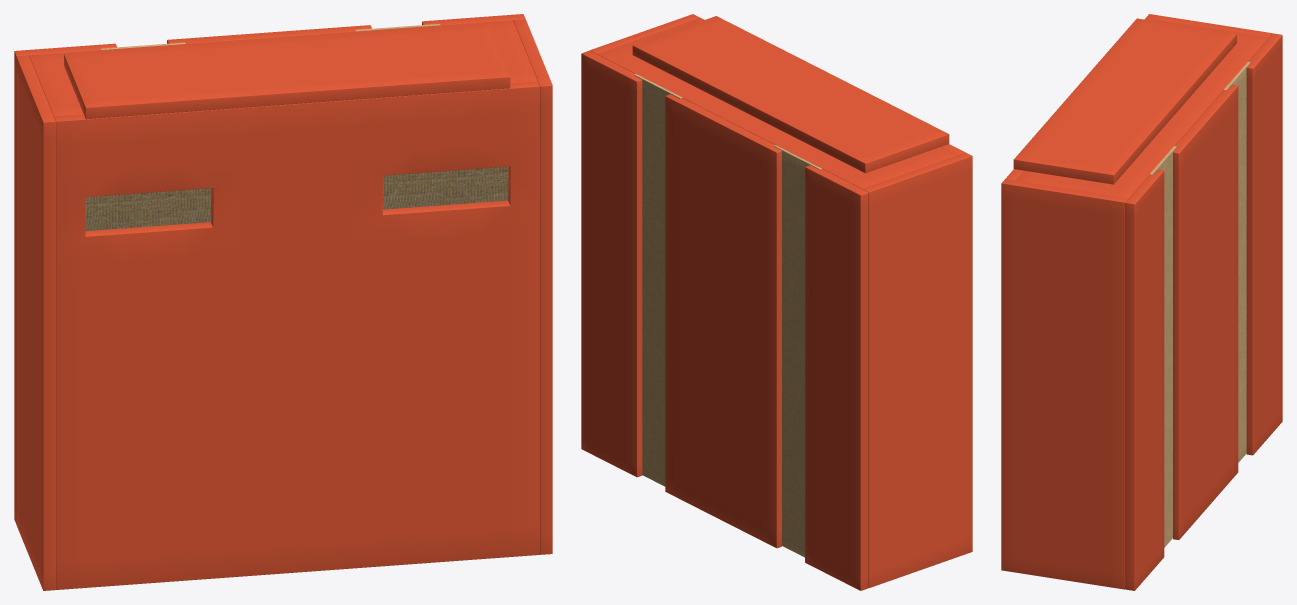
Rendered from panel_01.gltf.
3 views of the same model, side by side, from view 1: azimuth 30°, elevation 25°; view 2: azimuth 150°, elevation 25°; view 3: azimuth 270°, elevation 25° (orthographic). The views are drawn at different scales.
Visible parts, largest first — view 1: object_3.013, object_12.007, object_8.009, object_10.010, object_7.009, object_9.010, object_4.011, object_5.008; view 2: object_5.008, object_8.009, object_4.011, object_6.009, object_12.007, object_1.015, object_2.006, object_9.010, object_7.009; view 3: object_7.009, object_5.008, object_12.007, object_6.009, object_4.011, object_9.010, object_1.015, object_2.006, object_8.009.
Part boxes in pixels (x1,y1,x2,y2): object_3.013: [54, 81, 539, 589]; object_12.007: [64, 23, 510, 119]; object_8.009: [16, 55, 55, 590]; object_10.010: [85, 166, 508, 230]; object_7.009: [513, 19, 552, 554]; object_9.010: [29, 20, 537, 116]; object_4.011: [14, 43, 116, 523]; object_5.008: [167, 25, 371, 43]; object_5.008: [665, 94, 781, 548]; object_8.009: [862, 152, 972, 587]; object_4.011: [805, 165, 868, 590]; object_6.009: [581, 50, 642, 477]; object_12.007: [632, 16, 949, 173]; object_1.015: [634, 74, 682, 486]; object_2.006: [773, 145, 821, 557]; object_9.010: [597, 20, 956, 188]; object_7.009: [590, 14, 699, 53]; object_7.009: [1001, 179, 1128, 589]; object_5.008: [1173, 84, 1238, 539]; object_12.007: [1013, 18, 1236, 184]; object_6.009: [1125, 169, 1164, 590]; object_4.011: [1246, 33, 1282, 455]; object_9.010: [1015, 20, 1268, 198]; object_1.015: [1149, 146, 1176, 547]; object_2.006: [1223, 61, 1250, 462]; object_8.009: [1146, 14, 1272, 37].
Bounding box in the file's own units: 0.6317 × 0.615 × 0.3948.
5 materials, 5 textured.
